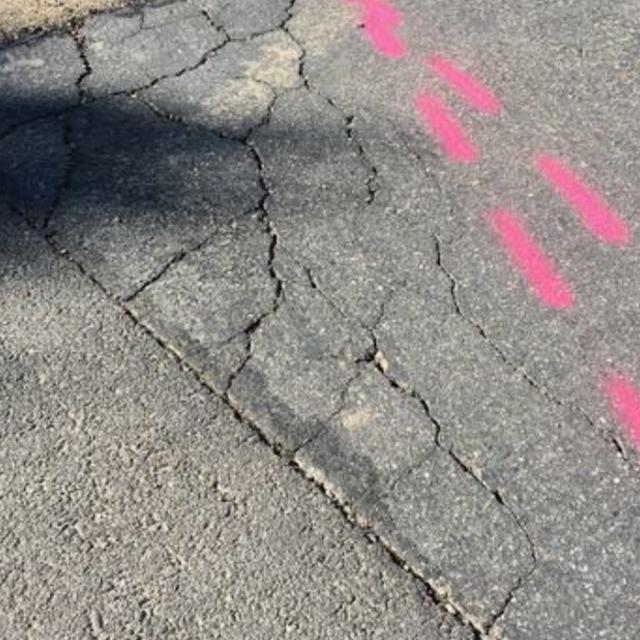retak_kulit_buaya: (0, 21, 378, 434)
